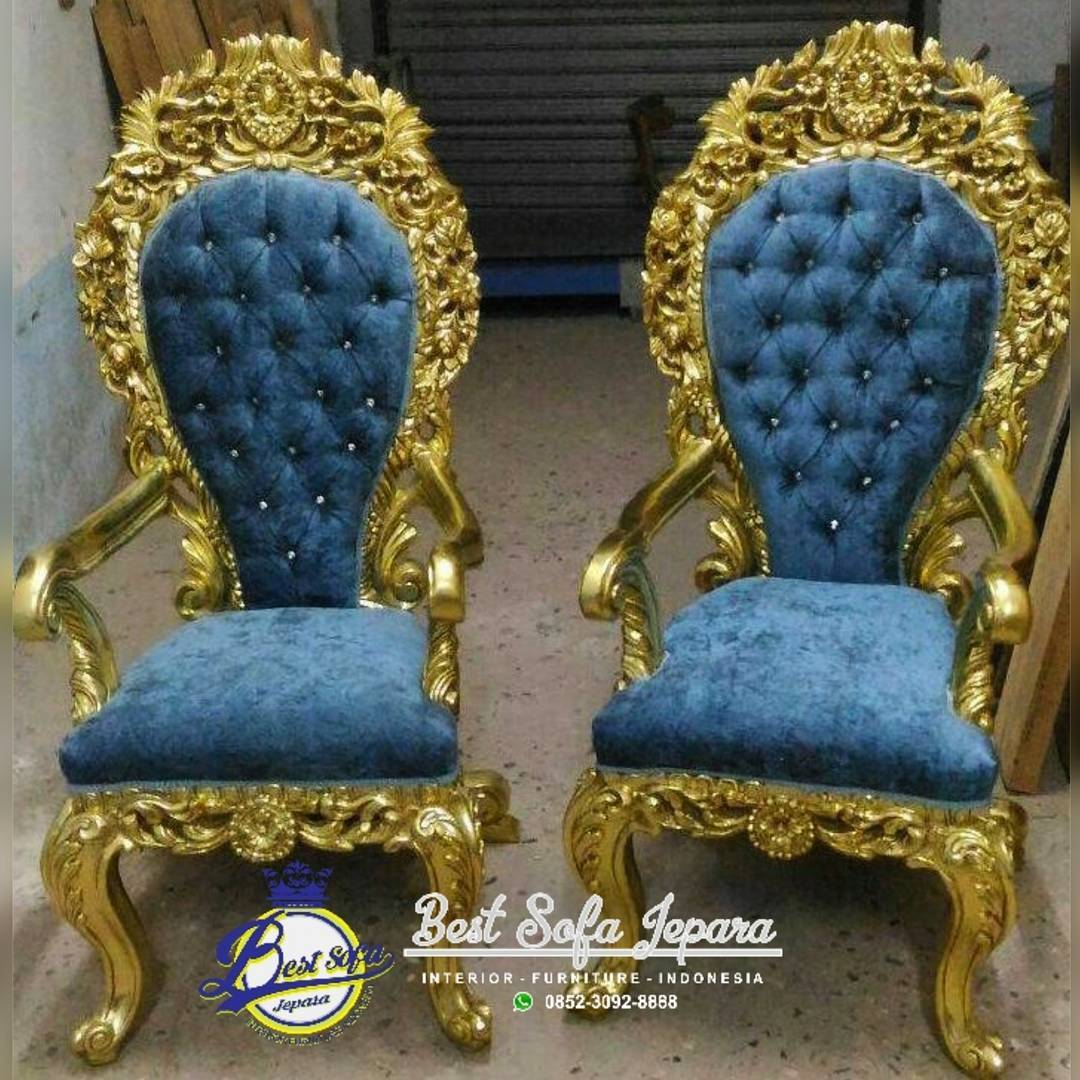Carving Chair: (574, 43, 1080, 1057), (49, 69, 528, 1033)
